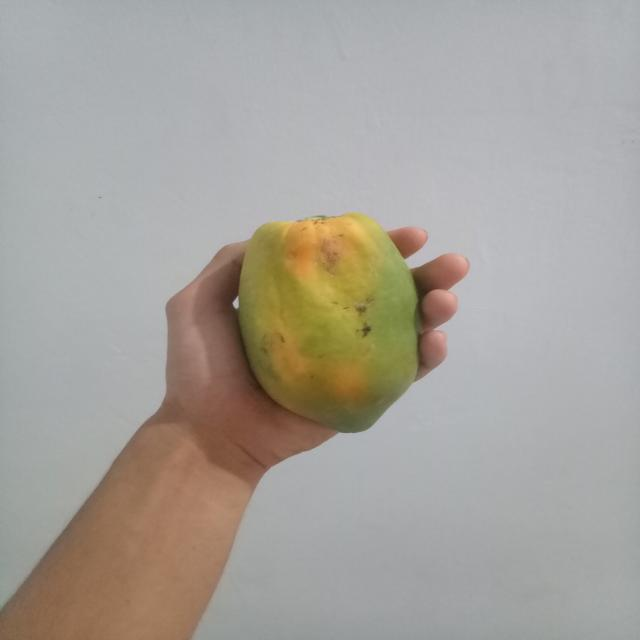Pepaya rippen: (232, 215, 424, 438)
